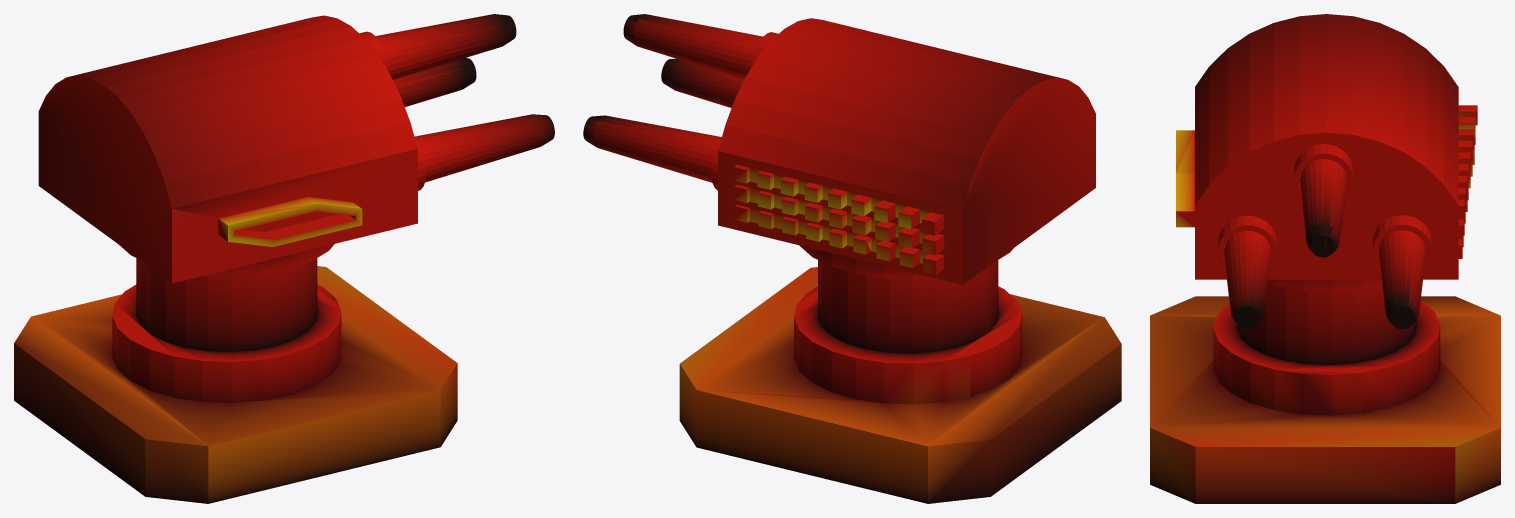
The model's file is torreta_4.fbx.
3 views of the same model, side by side, from view 1: azimuth 30°, elevation 25°; view 2: azimuth 150°, elevation 25°; view 3: azimuth 270°, elevation 25° (orthographic).
Visible parts, largest first — view 1: Model; view 2: Model; view 3: Model.
Part boxes in pixels (x1,y1,x2,y2): Model: (14,14,554,503); Model: (583,14,1121,503); Model: (1150,14,1500,503).
Size of the model in its own units: 4.93 by 3.9 by 3.52.
